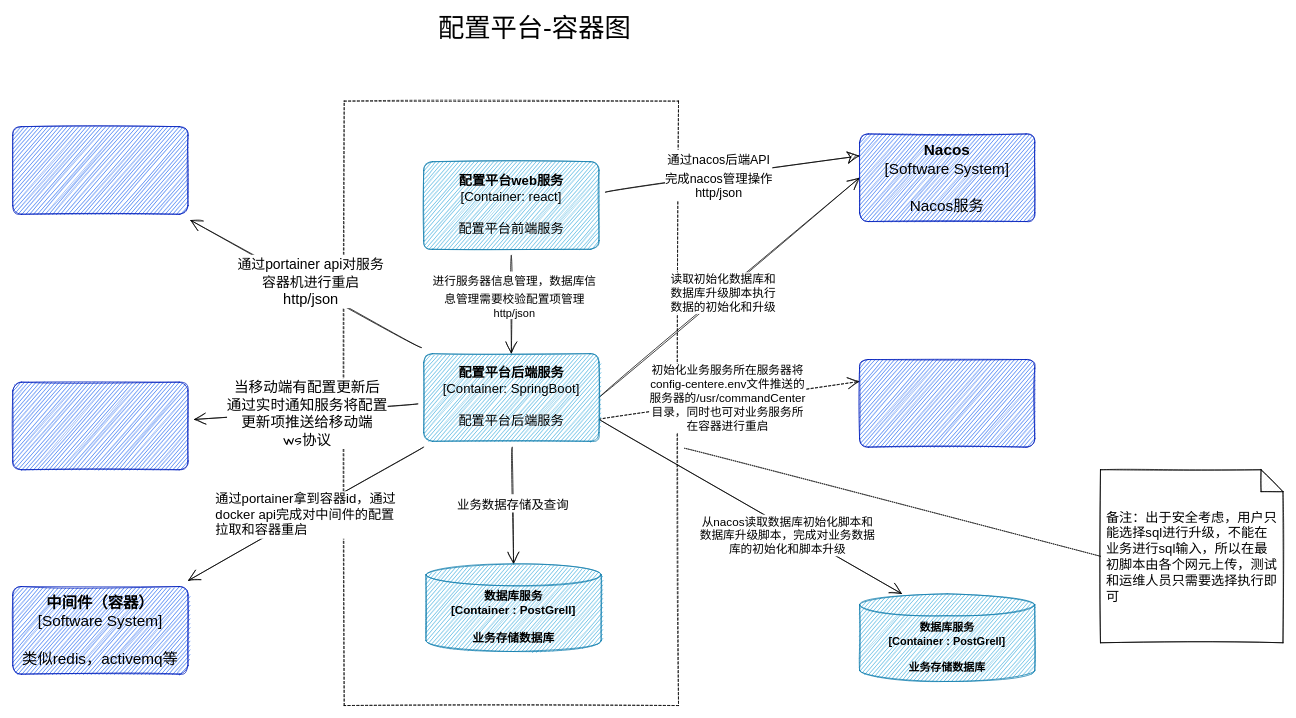
Image size: 1296x718. Some labels were removed from this diagram. The centre of each missing label's shape, as x and y in pixels:
Portainer [Software System] Portainer服务: (100,170)
业务服务 [Software System] 业务服务代表某个域的业务: (947,403)
实时通知服务 [Software System] 实时通知服务: (100,425)
